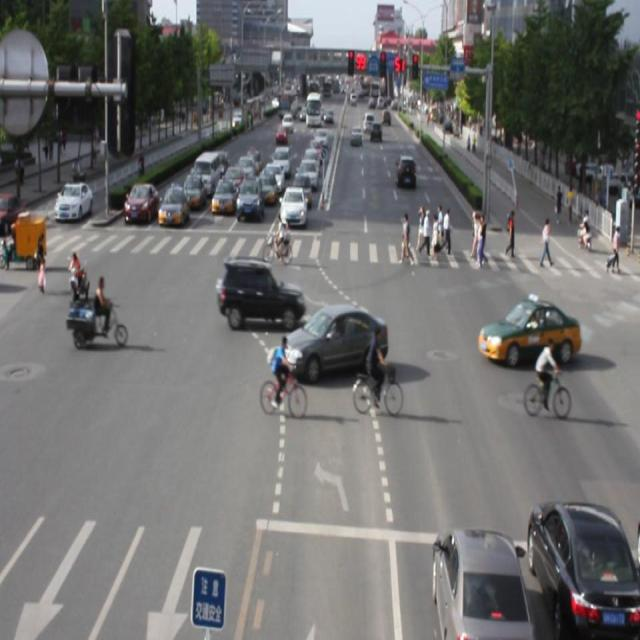car: (523, 495, 640, 640), (429, 524, 530, 640), (282, 302, 388, 378), (479, 294, 581, 367), (216, 254, 303, 328)
